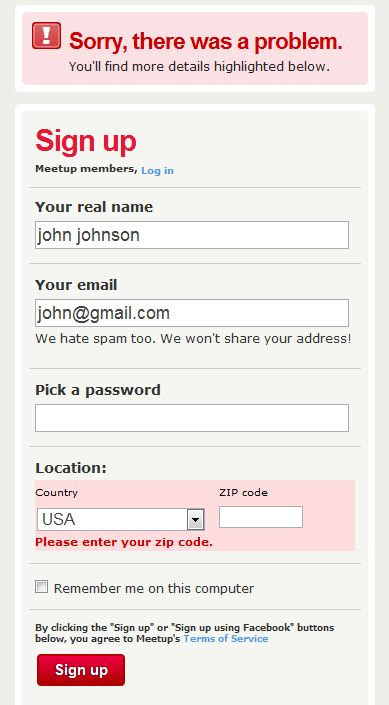error_message: (70, 30, 343, 53), (34, 126, 136, 159), (34, 535, 212, 549), (50, 661, 111, 680)
